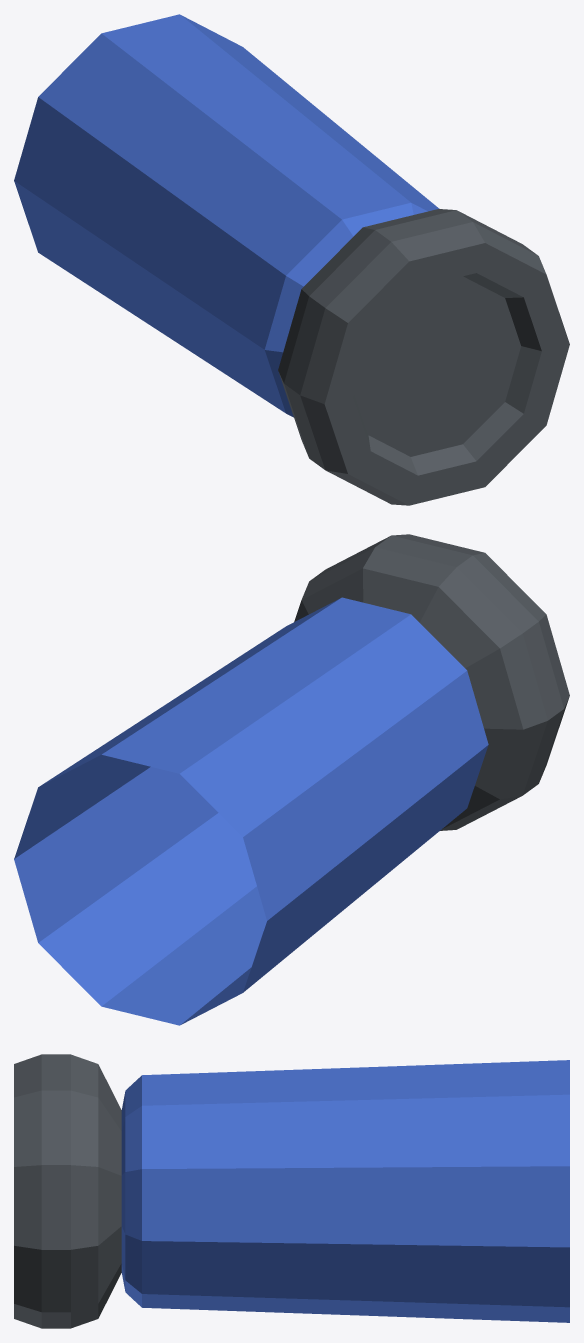
File: Personal_Vehicle_01_Head_Light_Big_Blue.fbx
3 views of the same model, one above another, from view 1: azimuth 30°, elevation 25°; view 2: azimuth 150°, elevation 25°; view 3: azimuth 270°, elevation 25° (orthographic). The views are drawn at different scales.
Parts seen in each view (by area): view 1: Personal_Vehicle_01_Head_Light_Big_Blue; view 2: Personal_Vehicle_01_Head_Light_Big_Blue; view 3: Personal_Vehicle_01_Head_Light_Big_Blue.
Part boxes in pixels (box(x1,y1,x2,y2)): Personal_Vehicle_01_Head_Light_Big_Blue: box(14, 14, 569, 505); Personal_Vehicle_01_Head_Light_Big_Blue: box(14, 534, 569, 1025); Personal_Vehicle_01_Head_Light_Big_Blue: box(14, 1054, 569, 1328).
Bounding box in the file's own units: 32.7 × 31.1 × 65.84.
Materials: 2 (2 with a texture image).
